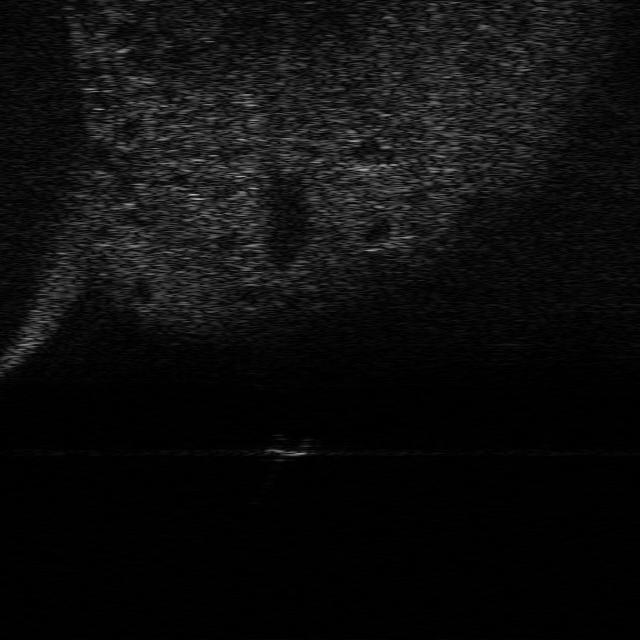cube: (270, 434, 312, 458)
